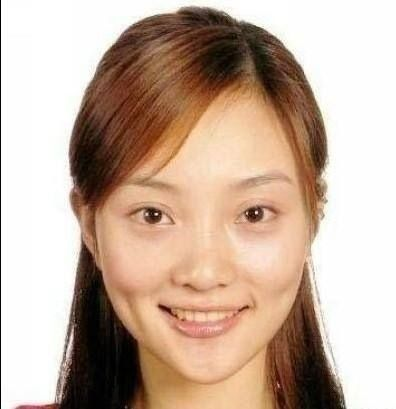unmask: (99, 127, 316, 364)
